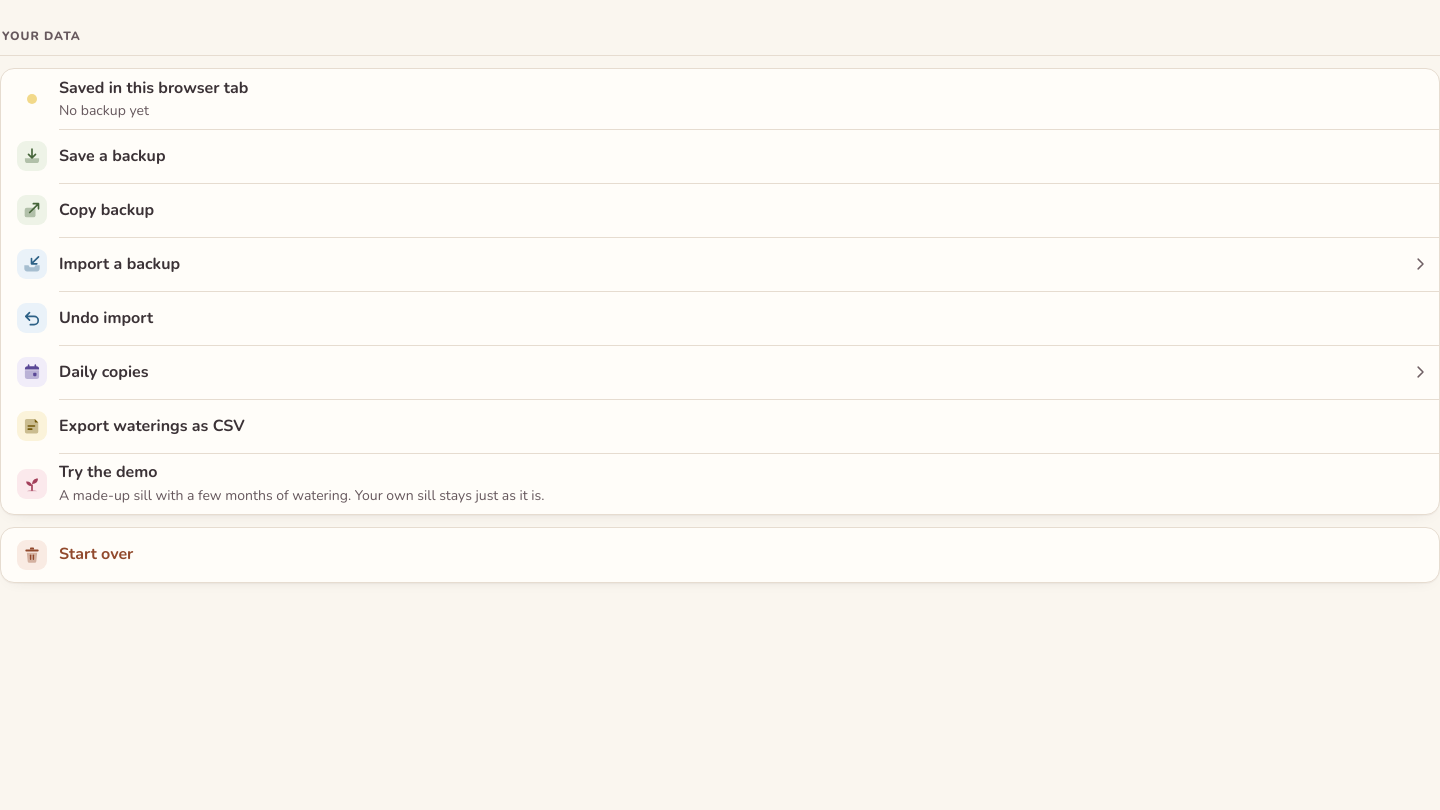
Test: the shared safety-copy label (WP-A3/A7 followup) › labels the copy produced by an actual undo without inventing its origin
Click the button "Undo import": (106, 318) [1,292,1439,346]
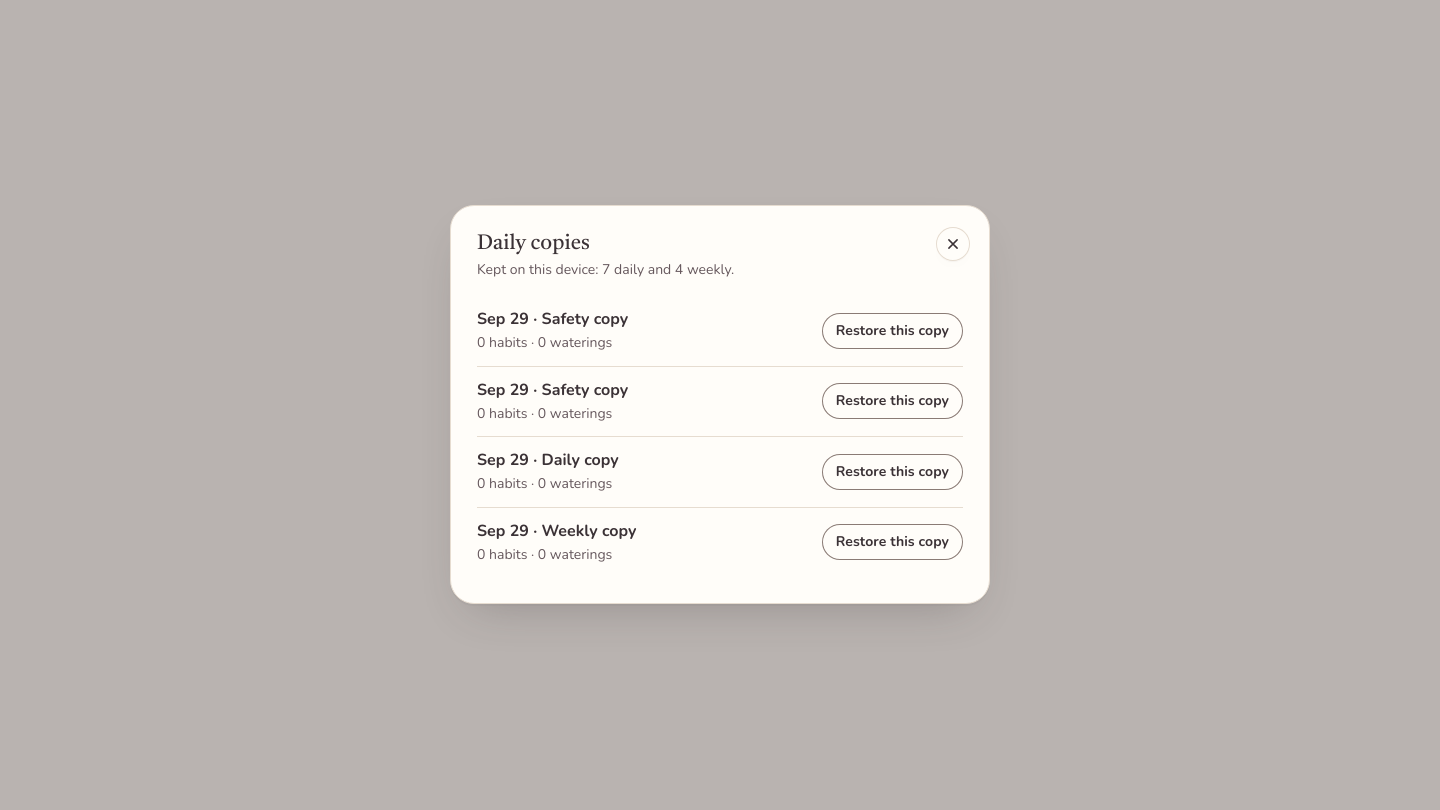
Result: the 1st button "Restore this copy" is shown at [822,313,963,349]
Result: the 2nd button "Restore this copy" is shown at [822,384,963,420]
Result: the button "Restore this copy" in the row of "Daily copy" is shown at [822,454,963,490]
